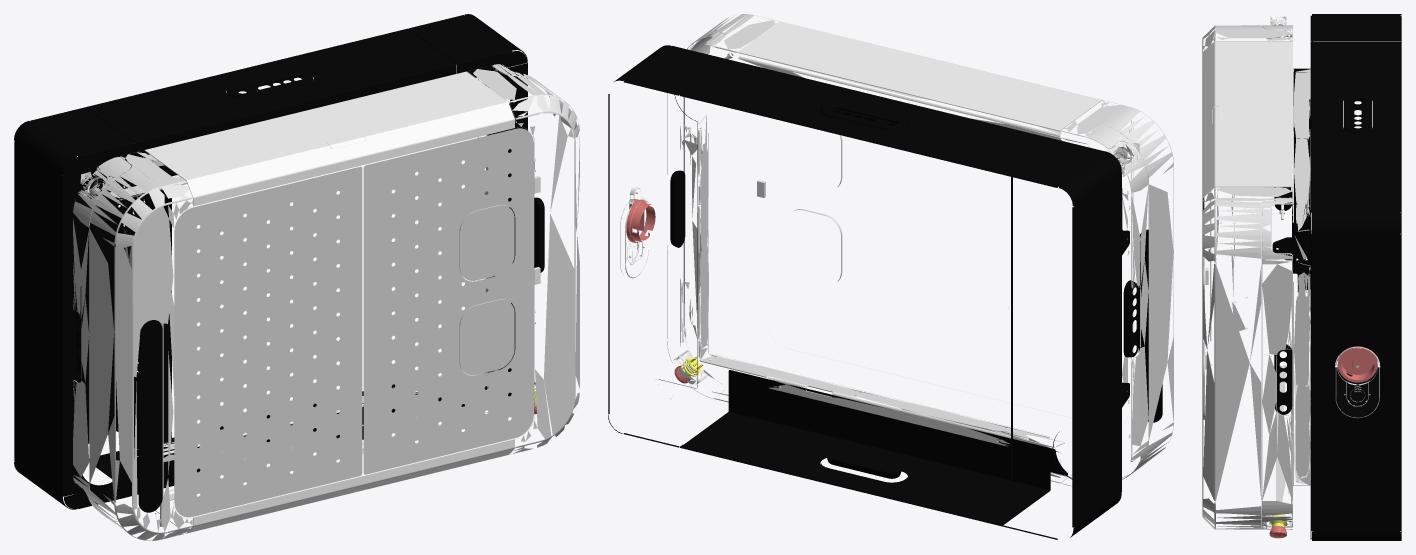
File: tmrv0_2.glb
The picture shows the model from 3 angles, left to right: view 1: azimuth 30°, elevation 25°; view 2: azimuth 150°, elevation 25°; view 3: azimuth 270°, elevation 25°; orthographic projection. The views are drawn at different scales.
Visible parts, largest first — view 1: mesh-af915cef-f0ec-4df7-836a-f5c461d96c98, mesh-aaaca206-6c10-425c-b8ac-103a1d711137, mesh-acddb5ad-e5c0-4bca-bd27-e23820f2a90e, mesh-de025bfc-f656-4292-8cd0-08cf9714cd14, mesh-df51a227-219c-4236-a952-64db3c283a82, mesh-a1674475-3d56-4d43-ad96-377ed346eb74, mesh-c8ff1359-c209-4d26-8d5b-89f7cd400e95, mesh-ae94c2cf-b59c-4ec0-8b65-1d9ca8db3fbd, mesh-a25eaa74-b5ef-4505-bbf5-f9462cd93389, mesh-c9f81aec-4fa0-472d-8311-b7b913e36df8, mesh-a75caf18-5278-436c-8046-f3c492a3fc33, mesh-cd35f7a4-12f6-467a-ae8d-17f015297c1f (+7 smaller); view 2: mesh-a0c09f68-74ee-4582-97dd-c8f7ca56fa3e, mesh-acddb5ad-e5c0-4bca-bd27-e23820f2a90e, mesh-a1674475-3d56-4d43-ad96-377ed346eb74, mesh-de025bfc-f656-4292-8cd0-08cf9714cd14, mesh-df51a227-219c-4236-a952-64db3c283a82, mesh-ec1ca9f1-4e53-4a70-81c6-d8fb9a8189e5, mesh-a75caf18-5278-436c-8046-f3c492a3fc33, mesh-ae94c2cf-b59c-4ec0-8b65-1d9ca8db3fbd, mesh-a3fcbffe-33d0-469c-a722-c0862c399170, mesh-a6093847-e625-465a-bbab-b7e13ae63a54, mesh-c8ff1359-c209-4d26-8d5b-89f7cd400e95, mesh-d4a0894d-c68d-4a46-8b26-c9dac67a9066 (+6 smaller); view 3: mesh-ae94c2cf-b59c-4ec0-8b65-1d9ca8db3fbd, mesh-de025bfc-f656-4292-8cd0-08cf9714cd14, mesh-a1674475-3d56-4d43-ad96-377ed346eb74, mesh-c8ff1359-c209-4d26-8d5b-89f7cd400e95, mesh-a582aed0-762b-4fbd-bbe8-e760b528077b, mesh-a3fcbffe-33d0-469c-a722-c0862c399170, mesh-a6093847-e625-465a-bbab-b7e13ae63a54, mesh-acddb5ad-e5c0-4bca-bd27-e23820f2a90e, mesh-a727e089-453a-4569-bc94-3d9b4676acc0, mesh-a0c09f68-74ee-4582-97dd-c8f7ca56fa3e, mesh-df51a227-219c-4236-a952-64db3c283a82, mesh-ae3f3f0c-e11c-4d50-9b8a-8da5c2ed6dbf (+6 smaller).
Part boxes in pixels (left/top/right/bottom): mesh-af915cef-f0ec-4df7-836a-f5c461d96c98: left=174, top=166, right=362, bottom=517; mesh-aaaca206-6c10-425c-b8ac-103a1d711137: left=363, top=128, right=533, bottom=474; mesh-acddb5ad-e5c0-4bca-bd27-e23820f2a90e: left=14, top=107, right=134, bottom=509; mesh-de025bfc-f656-4292-8cd0-08cf9714cd14: left=144, top=71, right=514, bottom=206; mesh-df51a227-219c-4236-a952-64db3c283a82: left=89, top=152, right=192, bottom=540; mesh-a1674475-3d56-4d43-ad96-377ed346eb74: left=86, top=28, right=456, bottom=176; mesh-c8ff1359-c209-4d26-8d5b-89f7cd400e95: left=467, top=66, right=579, bottom=454; mesh-ae94c2cf-b59c-4ec0-8b65-1d9ca8db3fbd: left=408, top=14, right=527, bottom=406; mesh-a25eaa74-b5ef-4505-bbf5-f9462cd93389: left=155, top=439, right=514, bottom=533; mesh-c9f81aec-4fa0-472d-8311-b7b913e36df8: left=138, top=320, right=162, bottom=512; mesh-a75caf18-5278-436c-8046-f3c492a3fc33: left=73, top=157, right=130, bottom=521; mesh-cd35f7a4-12f6-467a-ae8d-17f015297c1f: left=459, top=204, right=514, bottom=280; mesh-a0c09f68-74ee-4582-97dd-c8f7ca56fa3e: left=680, top=370, right=1067, bottom=526; mesh-acddb5ad-e5c0-4bca-bd27-e23820f2a90e: left=1002, top=138, right=1121, bottom=539; mesh-a1674475-3d56-4d43-ad96-377ed346eb74: left=680, top=59, right=1049, bottom=174; mesh-de025bfc-f656-4292-8cd0-08cf9714cd14: left=738, top=21, right=1107, bottom=131; mesh-df51a227-219c-4236-a952-64db3c283a82: left=1061, top=100, right=1173, bottom=486; mesh-ec1ca9f1-4e53-4a70-81c6-d8fb9a8189e5: left=700, top=353, right=1068, bottom=477; mesh-a75caf18-5278-436c-8046-f3c492a3fc33: left=1086, top=127, right=1148, bottom=479; mesh-ae94c2cf-b59c-4ec0-8b65-1d9ca8db3fbd: left=608, top=45, right=727, bottom=447; mesh-a3fcbffe-33d0-469c-a722-c0862c399170: left=680, top=115, right=708, bottom=360; mesh-a6093847-e625-465a-bbab-b7e13ae63a54: left=738, top=56, right=1089, bottom=146; mesh-c8ff1359-c209-4d26-8d5b-89f7cd400e95: left=683, top=14, right=781, bottom=402; mesh-d4a0894d-c68d-4a46-8b26-c9dac67a9066: left=670, top=170, right=685, bottom=247; mesh-ae94c2cf-b59c-4ec0-8b65-1d9ca8db3fbd: left=1310, top=187, right=1401, bottom=540; mesh-de025bfc-f656-4292-8cd0-08cf9714cd14: left=1202, top=41, right=1292, bottom=198; mesh-a1674475-3d56-4d43-ad96-377ed346eb74: left=1310, top=41, right=1401, bottom=187; mesh-c8ff1359-c209-4d26-8d5b-89f7cd400e95: left=1202, top=187, right=1292, bottom=529; mesh-a582aed0-762b-4fbd-bbe8-e760b528077b: left=1262, top=198, right=1292, bottom=529; mesh-a3fcbffe-33d0-469c-a722-c0862c399170: left=1277, top=262, right=1310, bottom=493; mesh-a6093847-e625-465a-bbab-b7e13ae63a54: left=1276, top=69, right=1311, bottom=231; mesh-acddb5ad-e5c0-4bca-bd27-e23820f2a90e: left=1310, top=14, right=1401, bottom=367; mesh-a727e089-453a-4569-bc94-3d9b4676acc0: left=1272, top=68, right=1311, bottom=291; mesh-a0c09f68-74ee-4582-97dd-c8f7ca56fa3e: left=1335, top=367, right=1380, bottom=418; mesh-df51a227-219c-4236-a952-64db3c283a82: left=1202, top=25, right=1292, bottom=364; mesh-ae3f3f0c-e11c-4d50-9b8a-8da5c2ed6dbf: left=1337, top=346, right=1377, bottom=382.
Size of the model in its own units: 0.8008 by 0.583 by 0.32.
